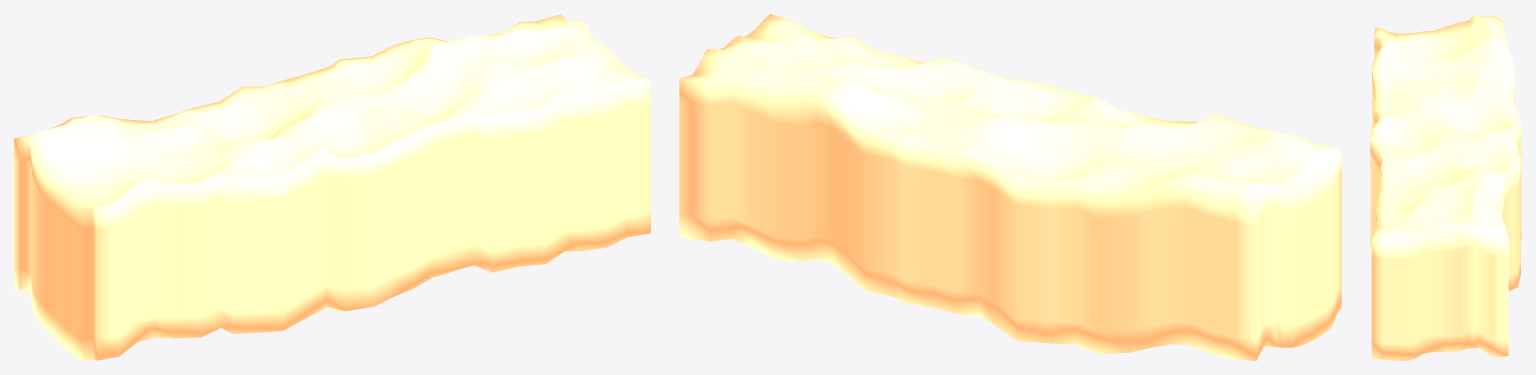
The model's file is lava.glb.
3 views of the same model, side by side, from view 1: azimuth 30°, elevation 25°; view 2: azimuth 150°, elevation 25°; view 3: azimuth 270°, elevation 25° (orthographic). The views are drawn at different scales.
Visible parts, largest first — view 1: Cube; view 2: Cube; view 3: Cube.
Part boxes in pixels (x1,y1,x2,y2): Cube: (14, 14, 650, 360); Cube: (679, 14, 1341, 360); Cube: (1370, 14, 1521, 360).
Size of the model in its own units: 20.32 by 7.08 by 6.15.
